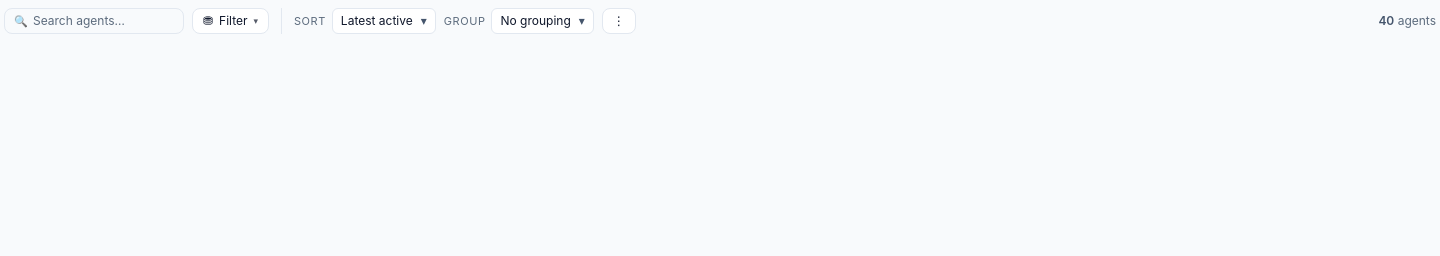
Test case: dashboardToolbar › offers spawner grouping while no spawner is filtered
Click the dropdown with test id "select-group": point(543, 21) 492,8 -> 594,34
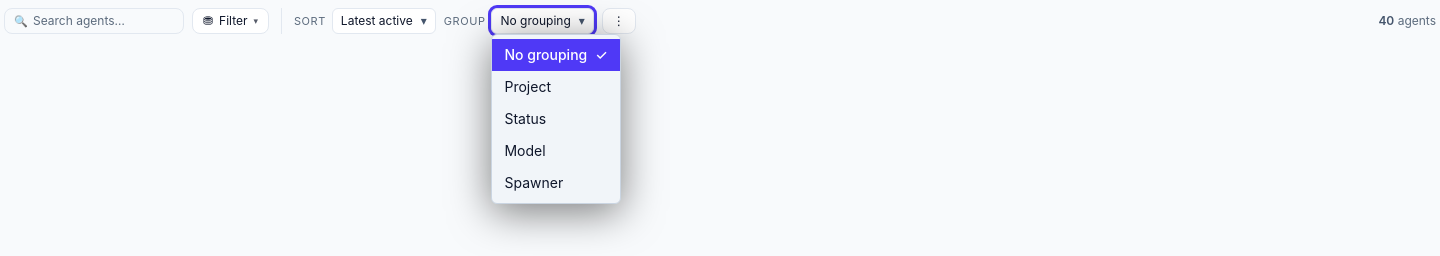
expect the number of options is 5: met, box 492,39 -> 620,71; 504,78 -> 551,95; 504,110 -> 546,127; 504,142 -> 546,159; 504,174 -> 563,191
expect the option "Spawner" is shown: met, box 504,174 -> 563,191
